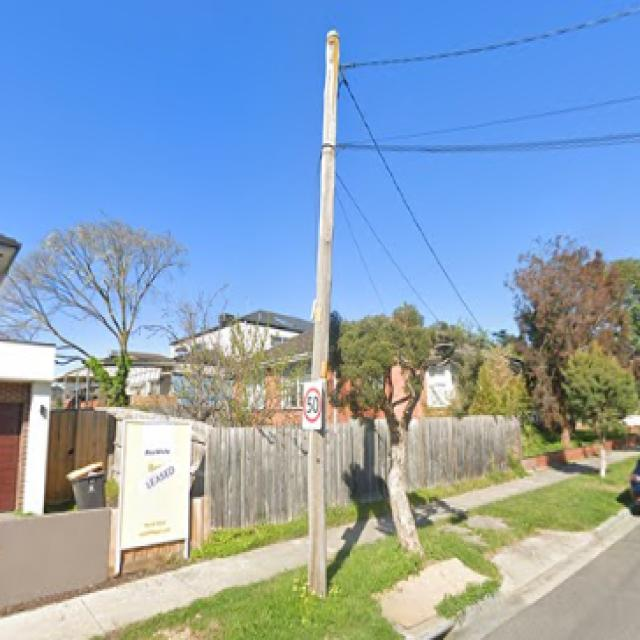timber-pole: (306, 30, 342, 598)
